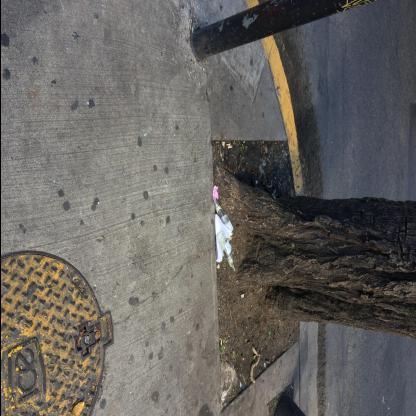cam: (216, 233, 236, 273), (213, 201, 235, 237)
